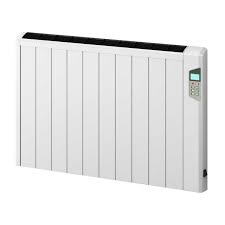Radiator: (15, 30, 209, 194)
